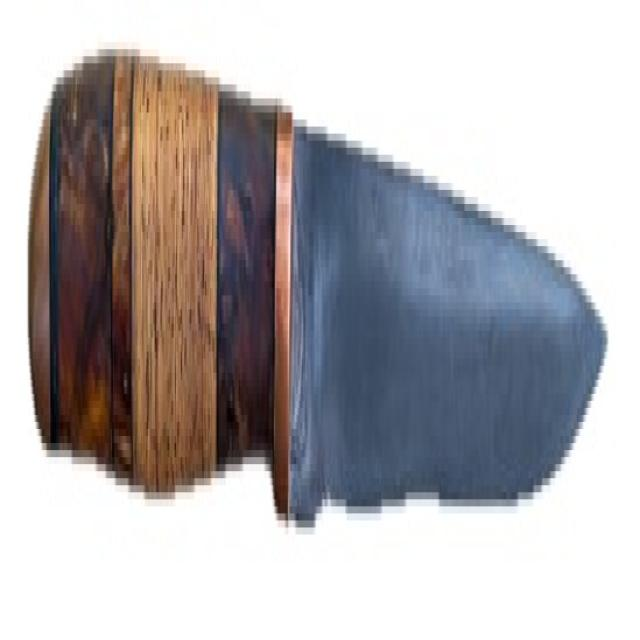knife: (27, 8, 620, 640)
